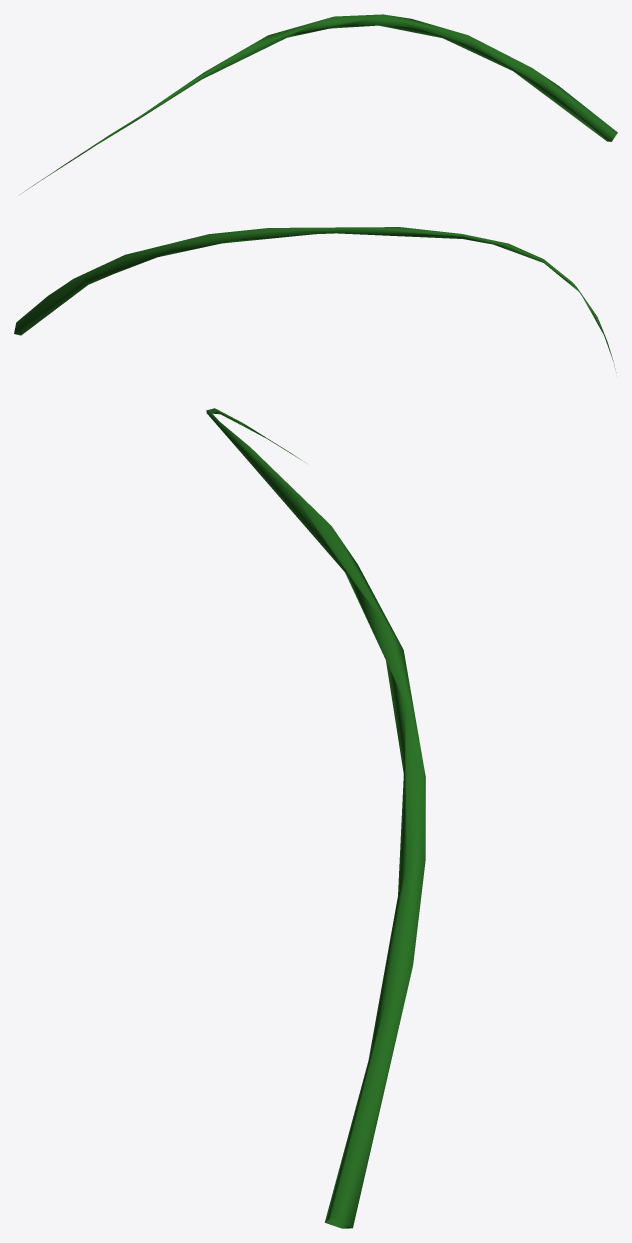
Rendered from Vines06.fbx.
3 renders of one model, top to bottom at view 1: azimuth 30°, elevation 25°; view 2: azimuth 150°, elevation 25°; view 3: azimuth 270°, elevation 25°, orthographic. The views are drawn at different scales.
Parts seen in each view (by area): view 1: Vine.002; view 2: Vine.002; view 3: Vine.002.
Part boxes in pixels (x1,y1,x2,y2): Vine.002: (20, 14, 617, 194); Vine.002: (14, 227, 616, 372); Vine.002: (206, 408, 425, 1228).
Size of the model in its own units: 581 by 176 by 92.37.
